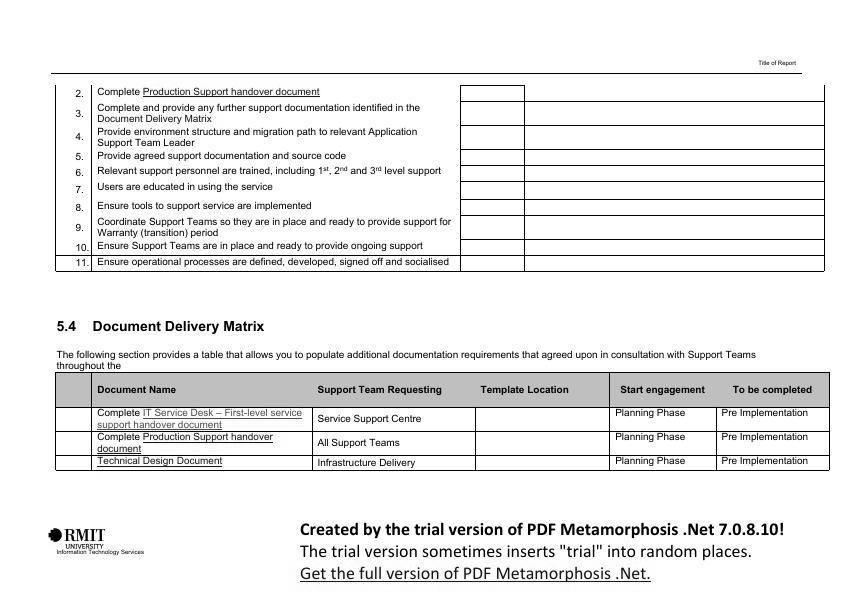table: (46, 66, 832, 280), (51, 370, 834, 473)
text: (53, 319, 760, 371), (296, 518, 788, 586)
